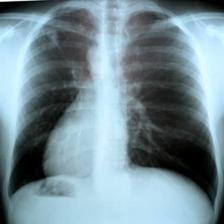tuberculosis: (1, 2, 222, 224)
